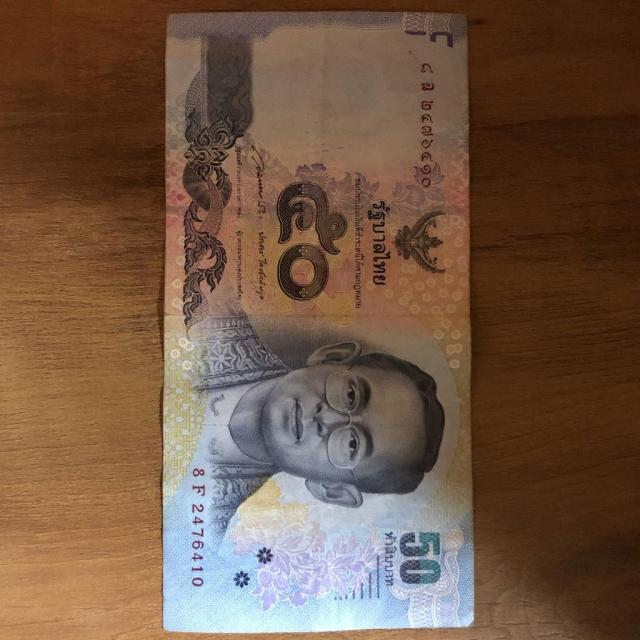THAI50: (162, 12, 473, 632)
